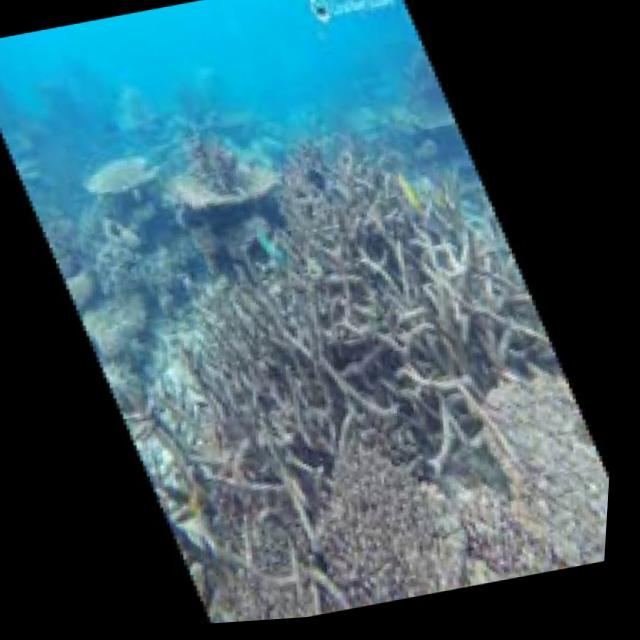Dead Coral: (271, 118, 516, 497), (136, 273, 370, 526), (191, 452, 493, 618), (435, 344, 622, 597), (167, 104, 287, 220)
